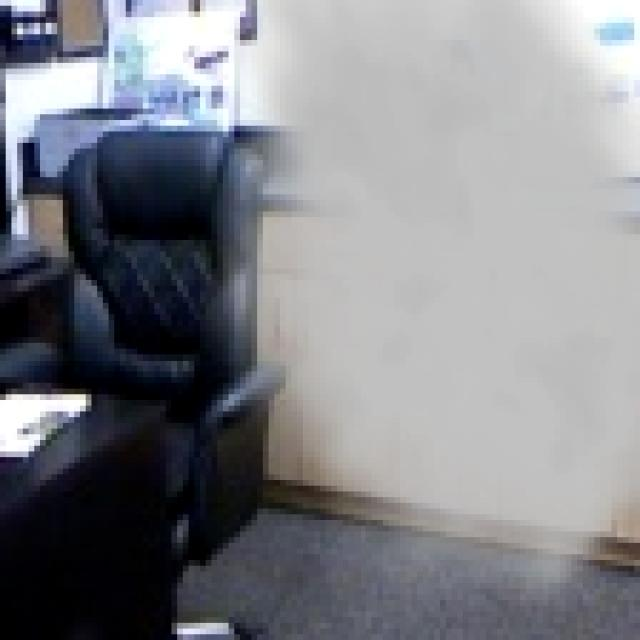smoke: (200, 0, 640, 629)
